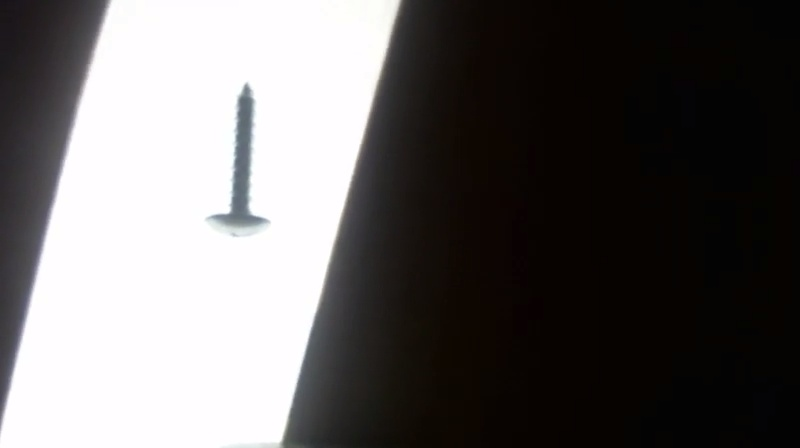S003: (203, 79, 275, 243)
